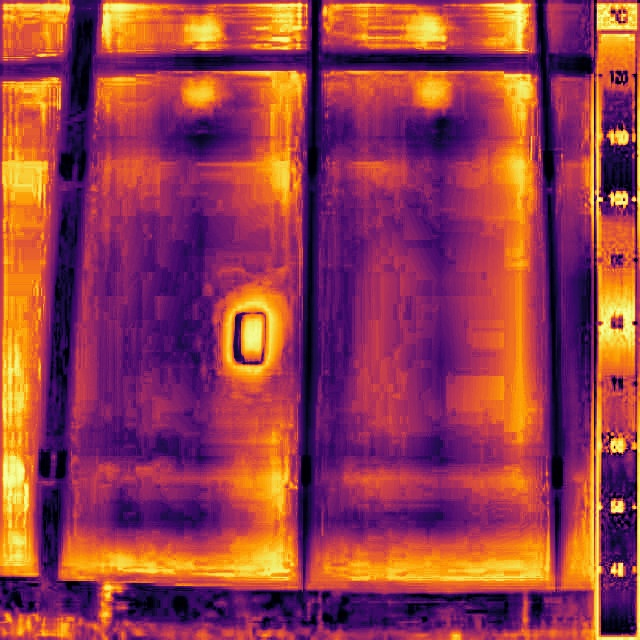Hotspot: (234, 309, 265, 363)
